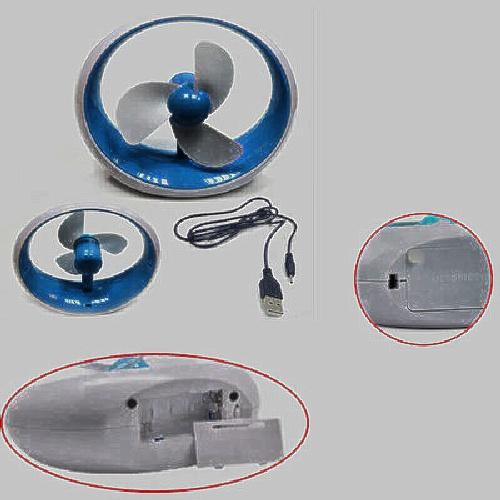fan: (17, 343, 308, 486), (64, 18, 310, 187), (331, 197, 500, 360), (10, 196, 170, 320)
